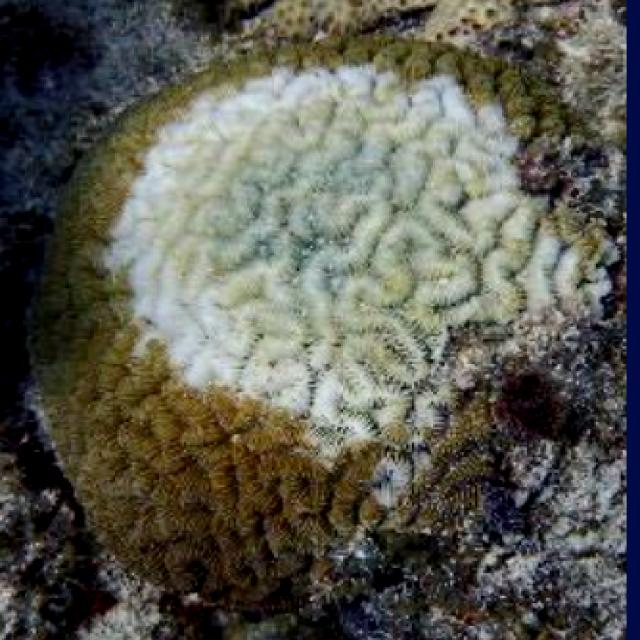Coral: (23, 33, 622, 609)
